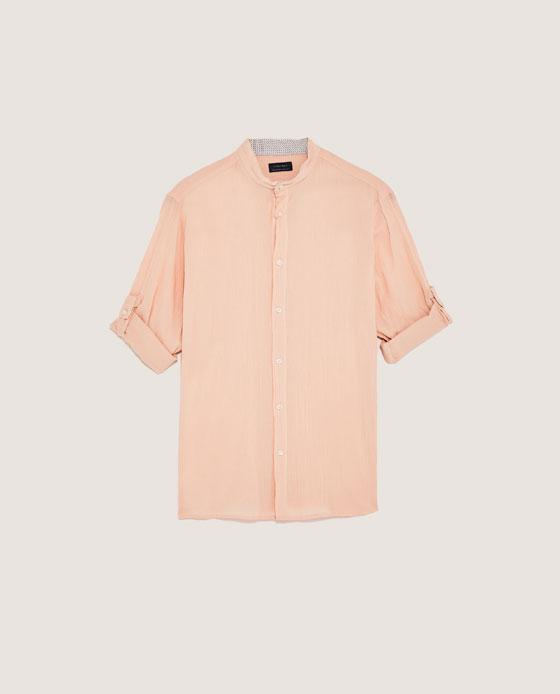teeshirt: (113, 133, 449, 537)
